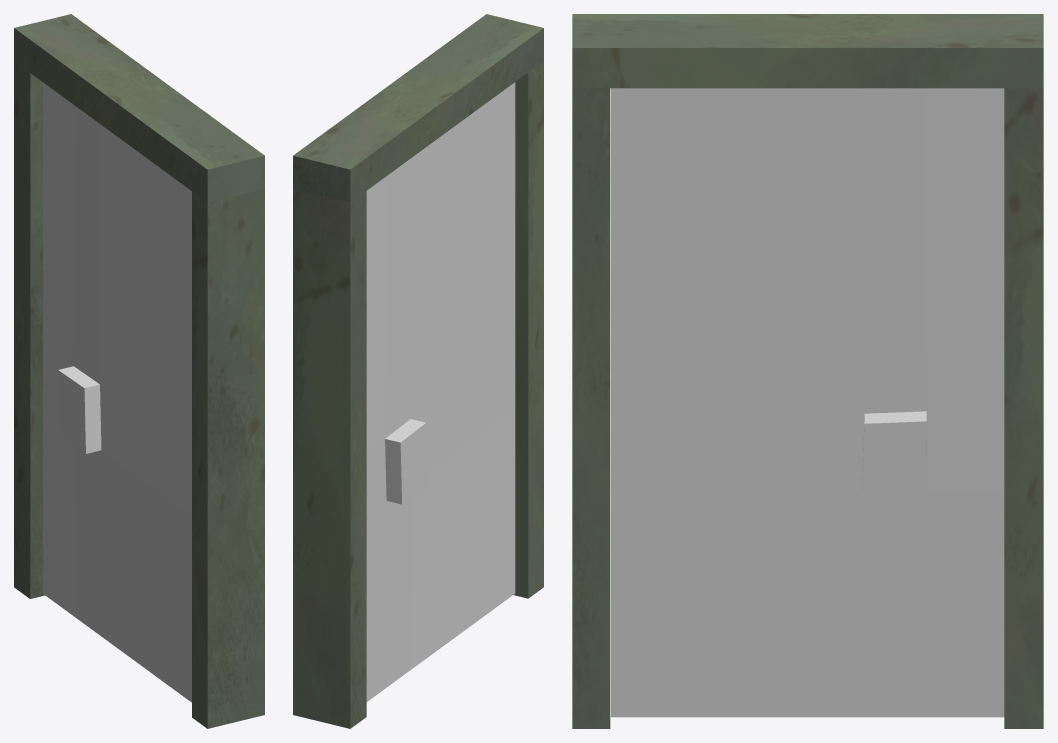
Rendered from Door.fbx.
3 views of the same model, side by side, from view 1: azimuth 30°, elevation 25°; view 2: azimuth 150°, elevation 25°; view 3: azimuth 270°, elevation 25° (orthographic). The views are drawn at different scales.
Visible parts, largest first — view 1: ClubDoor, Doorframe; view 2: ClubDoor, Doorframe; view 3: ClubDoor, Doorframe.
Boxes of the visible parts, left/top/right/bottom form: ClubDoor: left=43, top=82, right=191, bottom=702; Doorframe: left=14, top=14, right=264, bottom=728; ClubDoor: left=366, top=82, right=515, bottom=701; Doorframe: left=293, top=14, right=543, bottom=728; ClubDoor: left=611, top=88, right=1004, bottom=717; Doorframe: left=572, top=14, right=1043, bottom=728.
Size of the model in its own units: 167 by 31.32 by 267.
